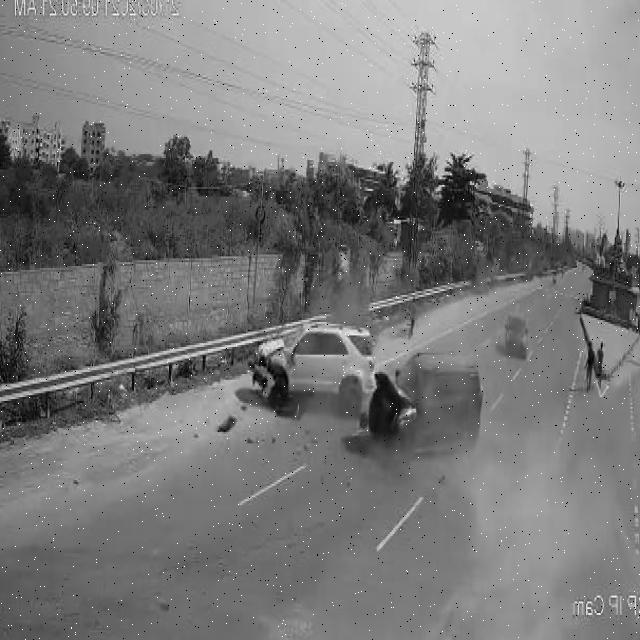accident: (218, 297, 496, 484)
